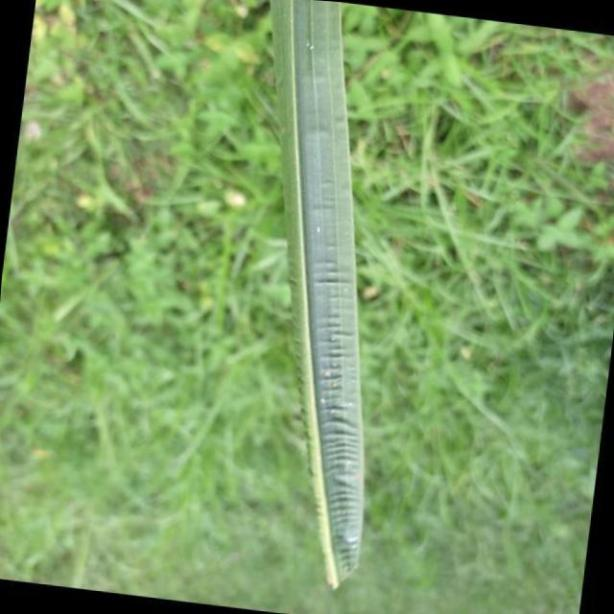Boron: (275, 0, 367, 588)
